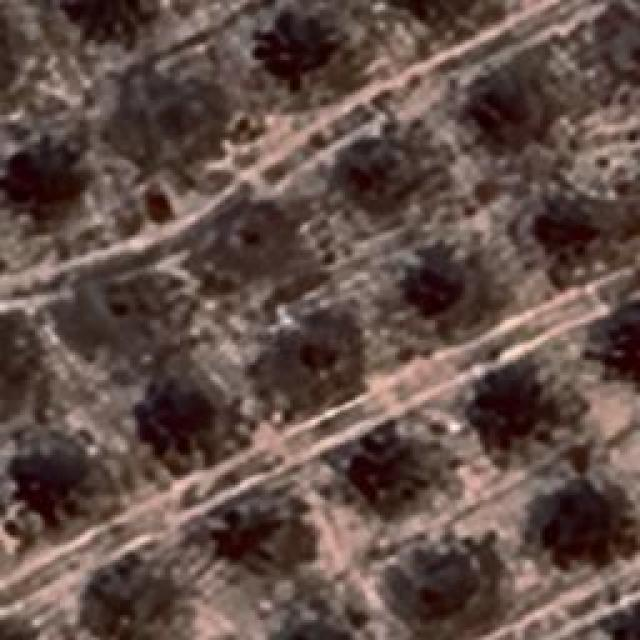PalmTree: (73, 55, 379, 174), (91, 14, 431, 55), (398, 540, 484, 628), (8, 436, 92, 519), (141, 388, 221, 468), (551, 484, 629, 566), (482, 374, 566, 448), (470, 64, 552, 138), (0, 145, 82, 215), (58, 0, 166, 50), (82, 558, 152, 630), (258, 18, 332, 86), (398, 248, 460, 326), (225, 496, 293, 566), (355, 428, 420, 496), (542, 197, 606, 255), (605, 310, 640, 380), (278, 618, 358, 640), (385, 0, 477, 18), (0, 2, 16, 94), (282, 623, 358, 640), (0, 0, 11, 92)
